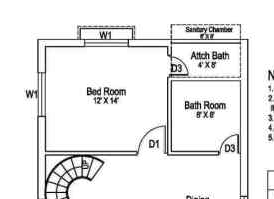door: (136, 121, 168, 160), (218, 133, 240, 160), (169, 55, 190, 77)
window: (32, 68, 53, 123), (81, 34, 131, 55)
